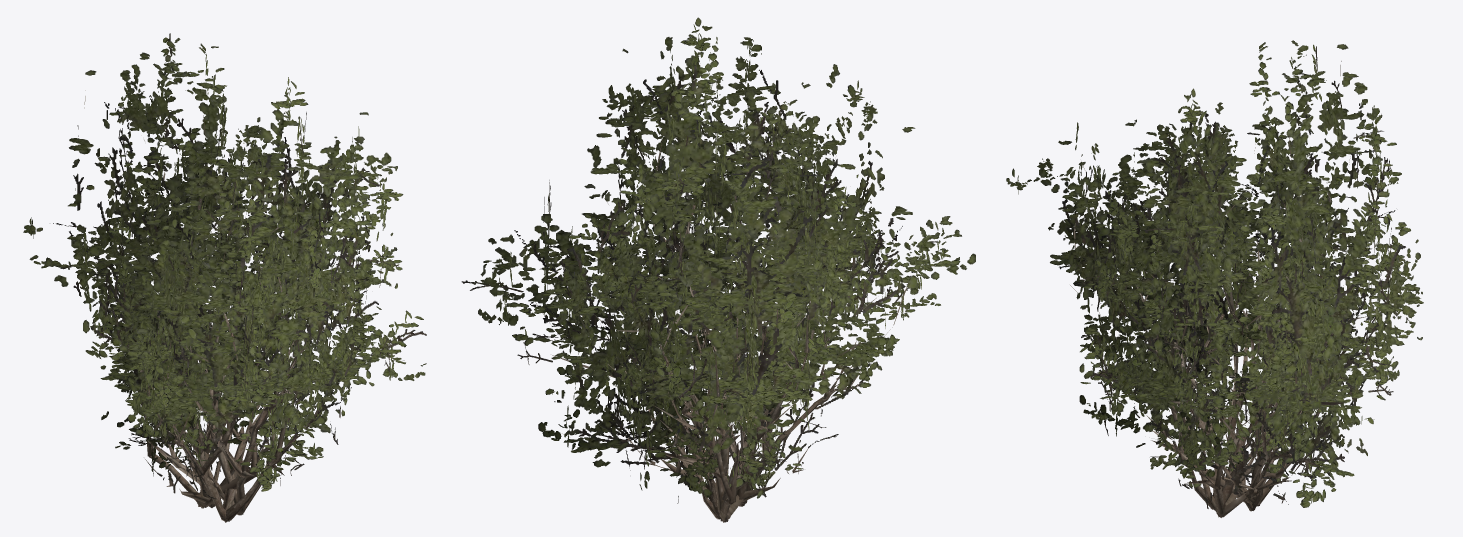
Rendered from bushes.glb.
3 renders of one model, left to right at view 1: azimuth 30°, elevation 25°; view 2: azimuth 150°, elevation 25°; view 3: azimuth 270°, elevation 25°, orthographic. The views are drawn at different scales.
Parts seen in each view (by area): view 1: foliage (×4), searsia_lucida_b_LOD0, searsia_lucida_a_LOD0, searsia_lucida_c_LOD0; view 2: foliage (×4), searsia_lucida_a_LOD0, searsia_lucida_c_LOD0, searsia_lucida_b_LOD0, searsia_lucida_d_LOD0; view 3: foliage (×4), searsia_lucida_a_LOD0, searsia_lucida_b_LOD0, searsia_lucida_c_LOD0, searsia_lucida_d_LOD0.
Part boxes in pixels (x1,y1,x2,y2): foliage (×4): (23,33,426,499); searsia_lucida_b_LOD0: (147,157,325,515); searsia_lucida_a_LOD0: (82,90,347,508); searsia_lucida_c_LOD0: (140,280,329,522); foliage (×4): (461,17,975,503); searsia_lucida_a_LOD0: (534,53,876,522); searsia_lucida_c_LOD0: (652,262,906,506); searsia_lucida_b_LOD0: (625,130,808,497); searsia_lucida_d_LOD0: (621,249,772,519); foliage (×4): (1006,40,1423,508); searsia_lucida_a_LOD0: (1070,61,1375,506); searsia_lucida_b_LOD0: (1128,144,1358,517); searsia_lucida_c_LOD0: (1130,271,1274,510); searsia_lucida_d_LOD0: (1203,249,1290,511).
Bounding box in the file's own units: 1.93 × 2.32 × 1.99.
Materials: 5 (5 with a texture image).
